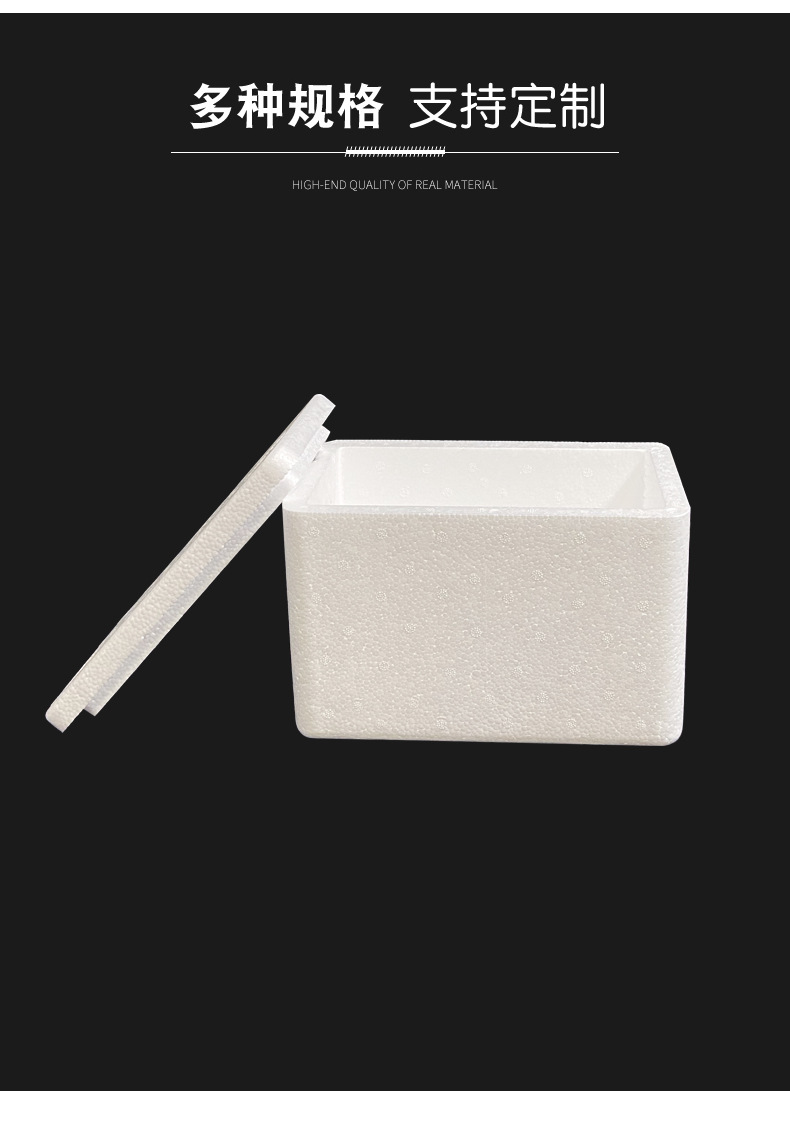泡沫箱: (283, 440, 690, 745)
